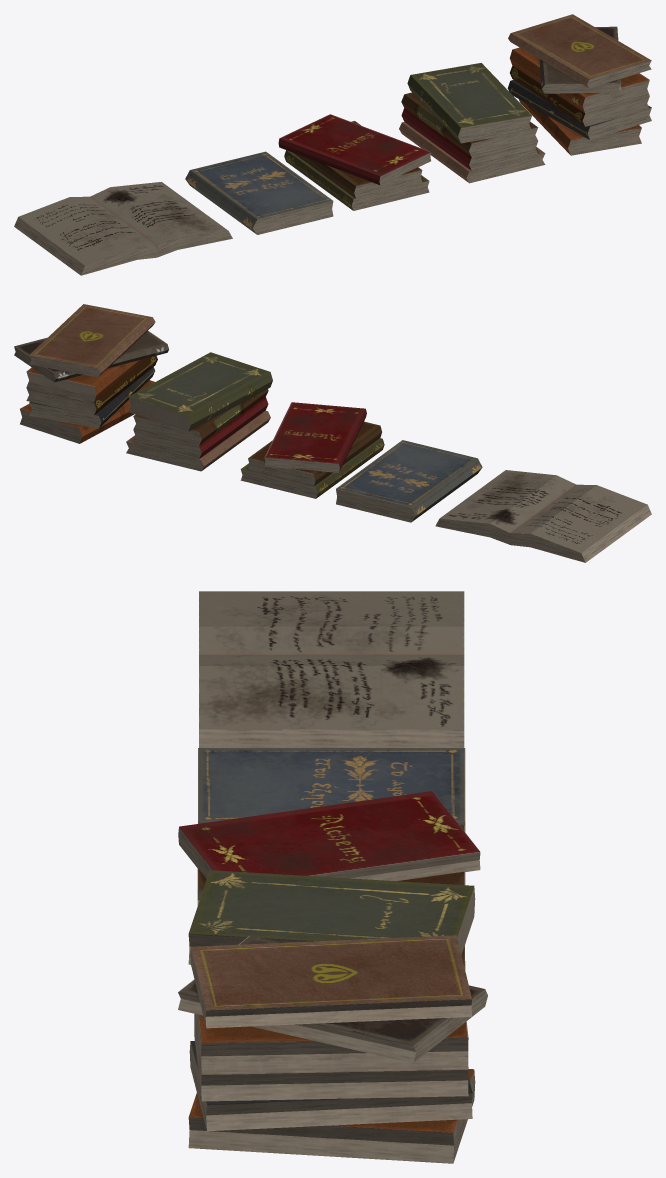
The model's file is Books_1.fbx.
3 views of the same model, one above another, from view 1: azimuth 30°, elevation 25°; view 2: azimuth 150°, elevation 25°; view 3: azimuth 270°, elevation 25° (orthographic). The views are drawn at different scales.
Visible parts, largest first — view 1: Cube.003, Cube.004, Cube.005, Cube.000, Cube.001; view 2: Cube.003, Cube.005, Cube.004, Cube.000, Cube.001; view 3: Cube.003, Cube.004, Cube.000, Cube.005, Cube.001.
Part boxes in pixels (box(x1,y1,x2,y2)): Cube.003: box(507, 14, 651, 155); Cube.004: box(14, 182, 232, 275); Cube.005: box(399, 63, 545, 183); Cube.000: box(278, 114, 431, 210); Cube.001: box(185, 151, 333, 234); Cube.003: box(14, 304, 168, 443); Cube.005: box(126, 352, 272, 471); Cube.004: box(435, 470, 651, 562); Cube.000: box(240, 402, 384, 498); Cube.001: box(336, 440, 482, 522); Cube.003: box(178, 935, 487, 1163); Cube.004: box(199, 591, 464, 747); Cube.000: box(178, 791, 480, 905); Cube.005: box(188, 870, 475, 969); Cube.001: box(198, 748, 465, 831).
Size of the model in its own units: 1552 by 192 by 357.
